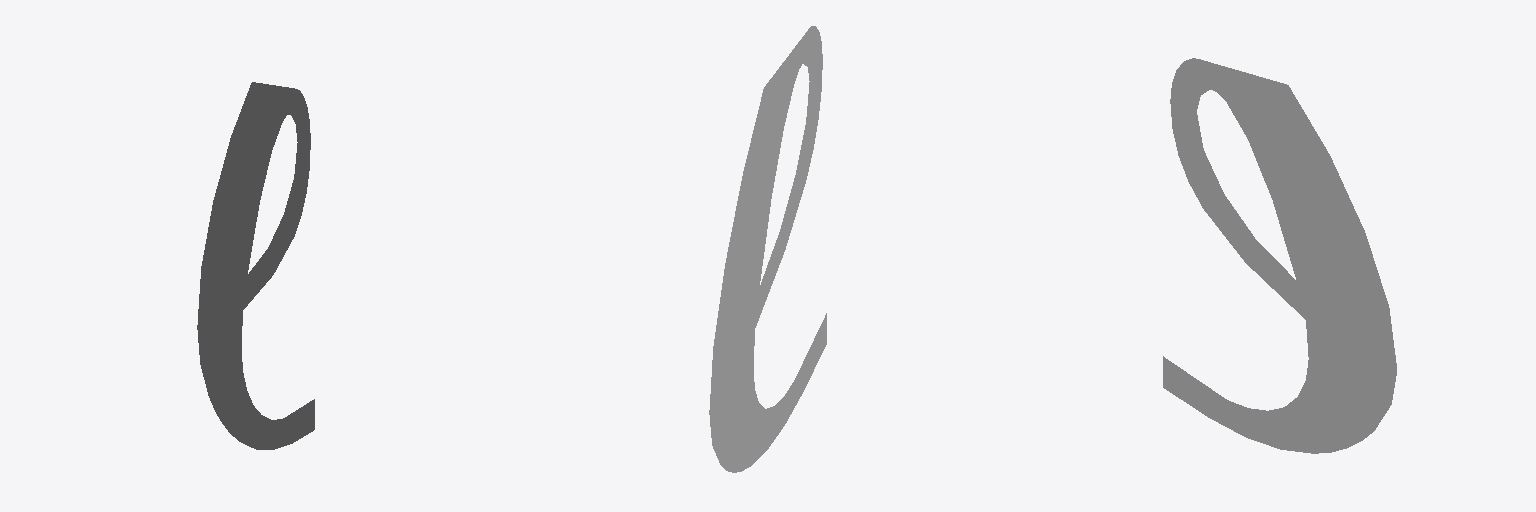
File: original-59.obj
3 renders of one model, left to right at view 1: azimuth 30°, elevation 25°; view 2: azimuth 150°, elevation 25°; view 3: azimuth 270°, elevation 25°, orthographic.
Parts seen in each view (by area): view 1: mesh12/mesh12-geometry/material_5/component_6#mesh12-geometry; view 2: mesh12/mesh12-geometry/material_5/component_6#mesh12-geometry; view 3: mesh12/mesh12-geometry/material_5/component_6#mesh12-geometry.
Part boxes in pixels (left/top/right/bottom): mesh12/mesh12-geometry/material_5/component_6#mesh12-geometry: left=197, top=82, right=314, bottom=449; mesh12/mesh12-geometry/material_5/component_6#mesh12-geometry: left=709, top=26, right=826, bottom=472; mesh12/mesh12-geometry/material_5/component_6#mesh12-geometry: left=1163, top=58, right=1396, bottom=453.
Size of the model in its own units: 0 by 0.0649 by 0.0349.